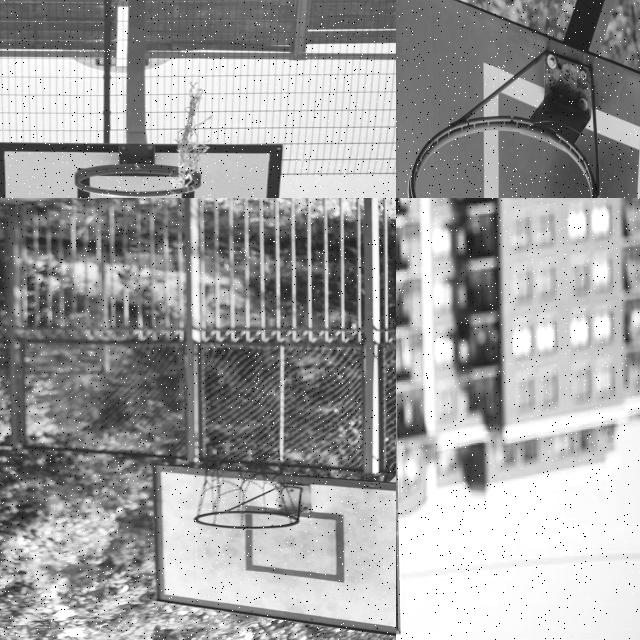backboard: (396, 0, 640, 198), (150, 459, 396, 640), (0, 139, 280, 198)
